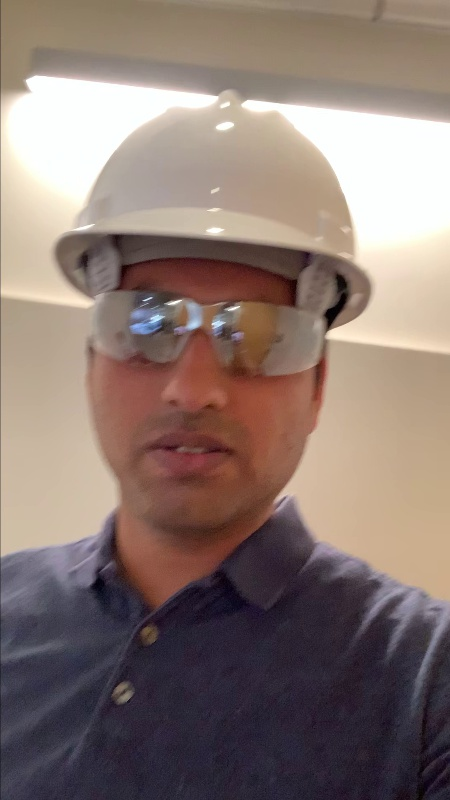glasses: (78, 282, 336, 395)
helmet: (39, 85, 373, 310)
